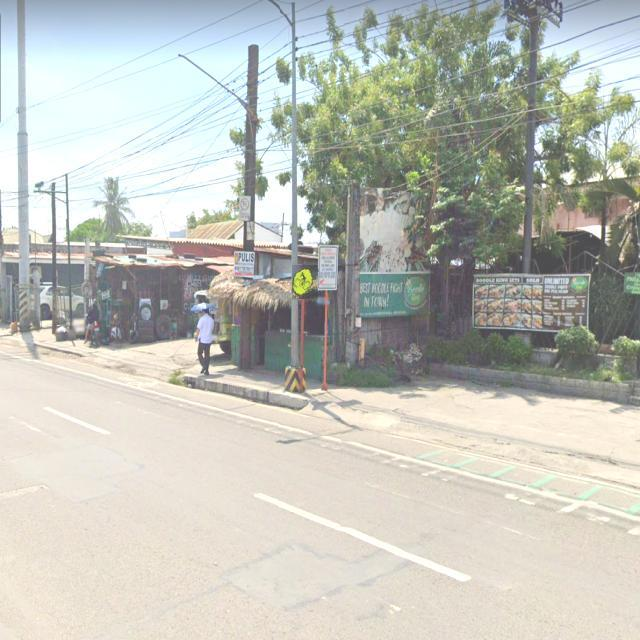bike lane: (292, 265, 318, 299)
